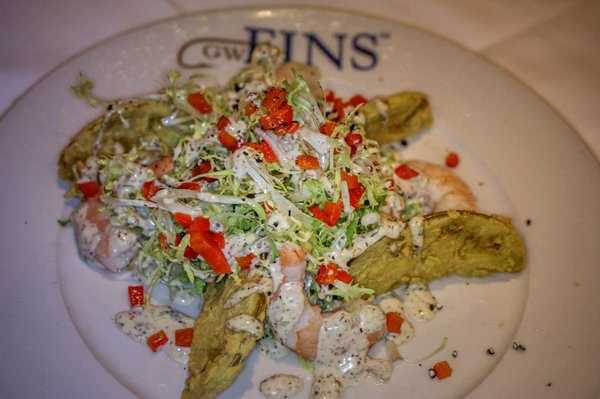sandwich: (54, 35, 531, 393)
